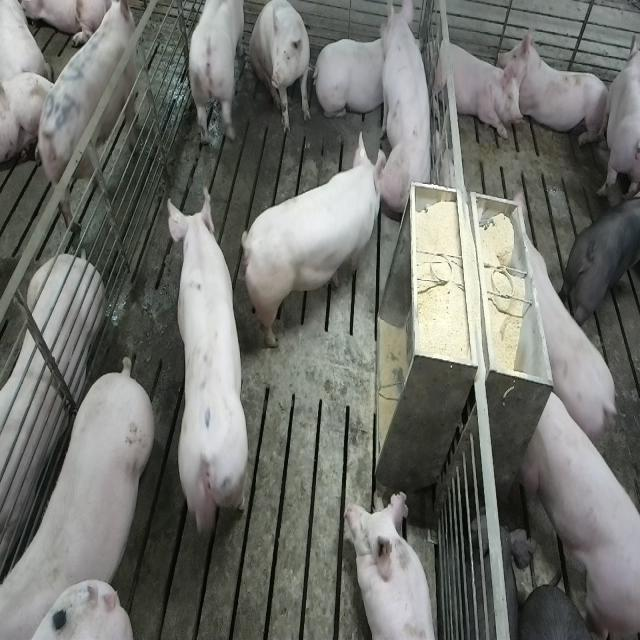Feeding: (238, 132, 380, 352)
Sitting: (378, 5, 436, 222), (249, 2, 313, 138)
Standing: (174, 193, 258, 558), (516, 390, 638, 640), (38, 0, 146, 229), (528, 249, 619, 462), (567, 178, 640, 332), (187, 1, 244, 156)
Sternal_lying: (0, 250, 103, 584), (501, 20, 611, 149), (346, 489, 439, 640), (427, 31, 525, 142), (316, 34, 392, 124)
